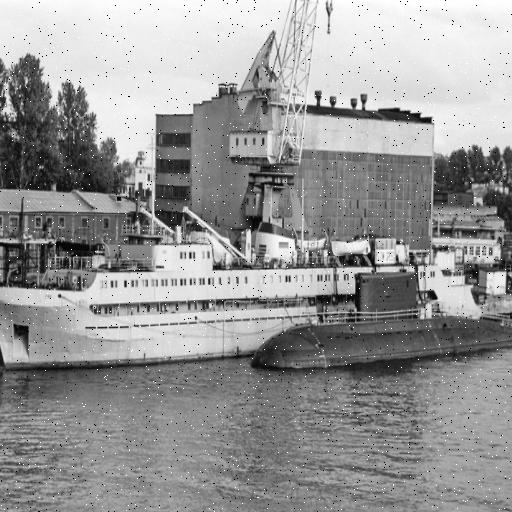submarine: (253, 268, 512, 371)
